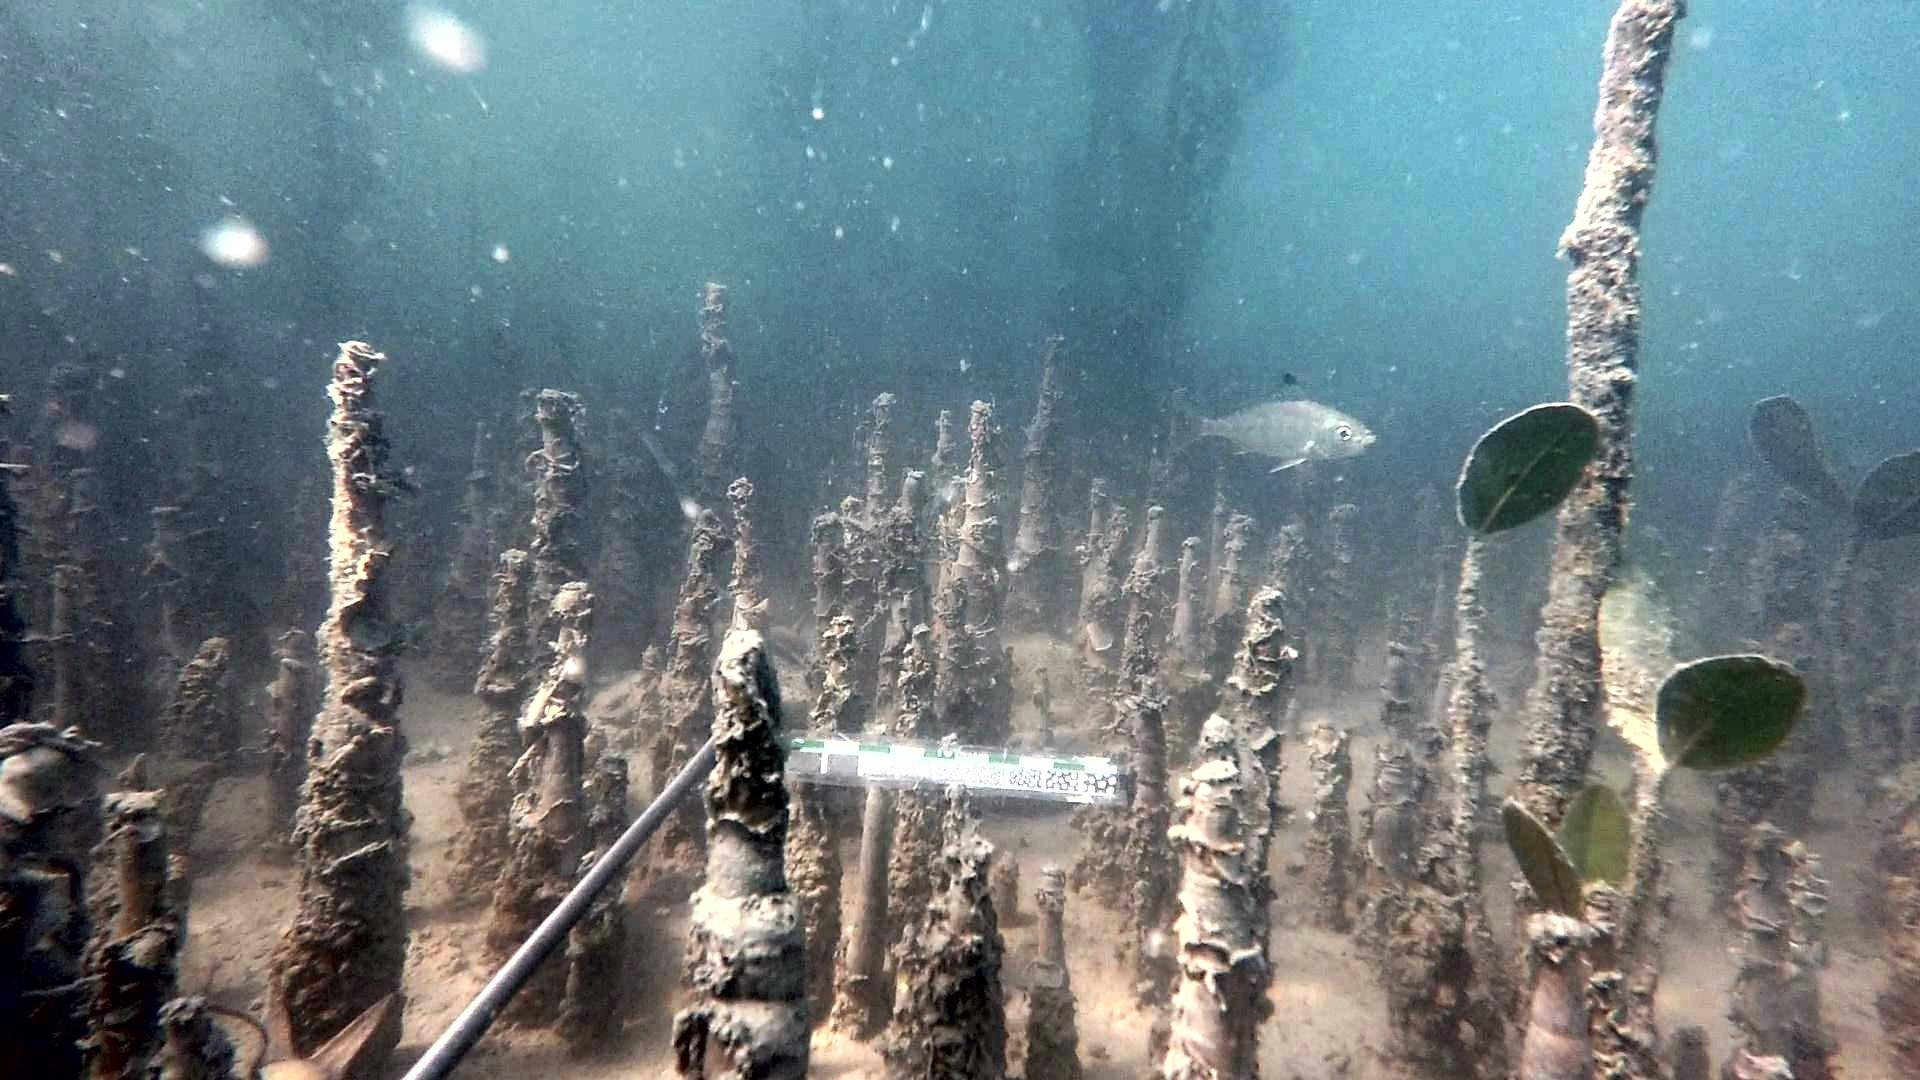gerres: (1174, 371, 1378, 476)
